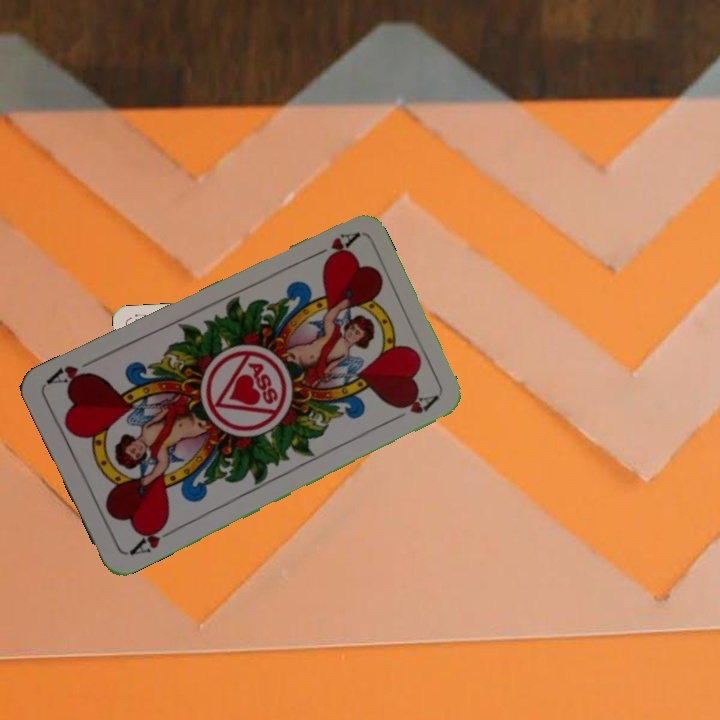HA: (124, 517, 179, 558), (305, 228, 360, 266)
